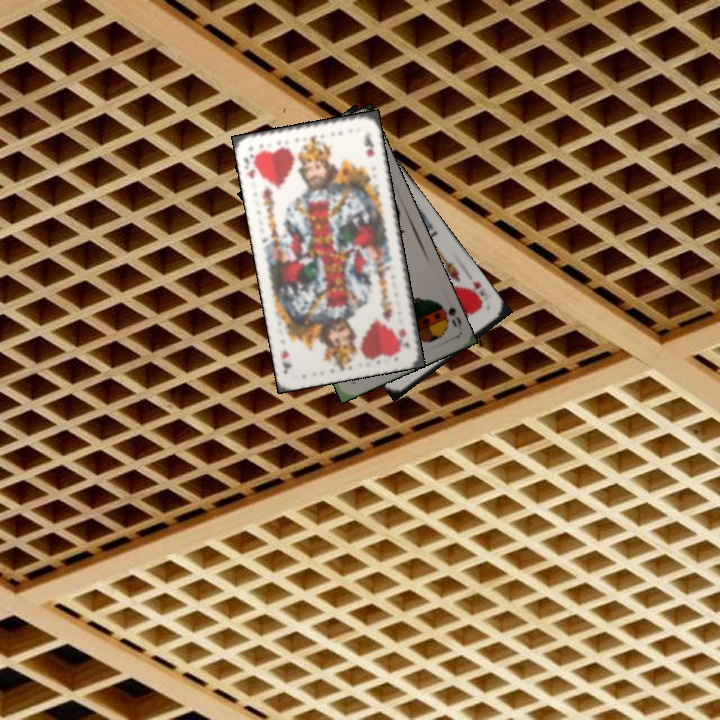HK: (465, 276, 487, 310), (240, 150, 262, 181), (394, 324, 412, 349)
SO: (433, 298, 464, 331)
